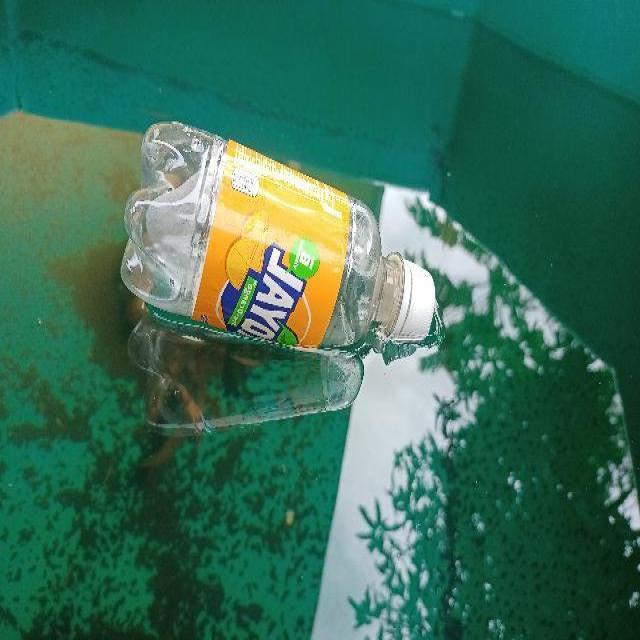Bottle: (114, 118, 440, 346)
